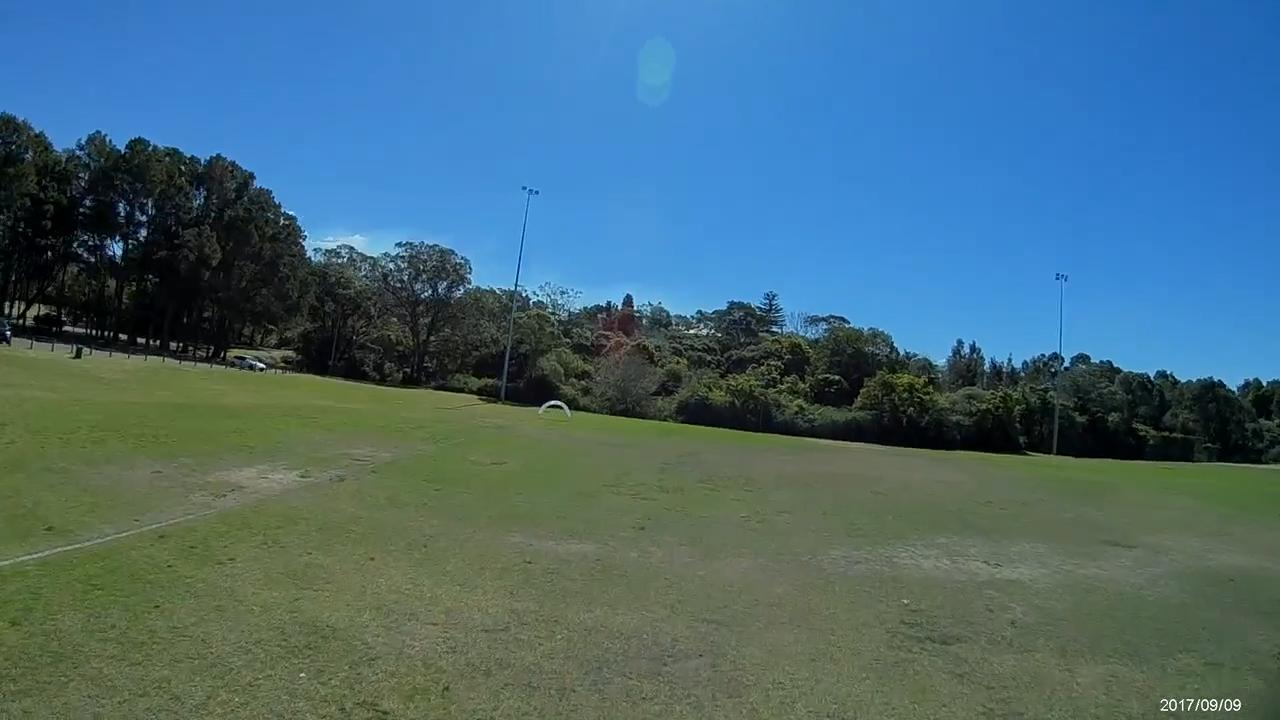gate: (536, 398, 570, 419)
